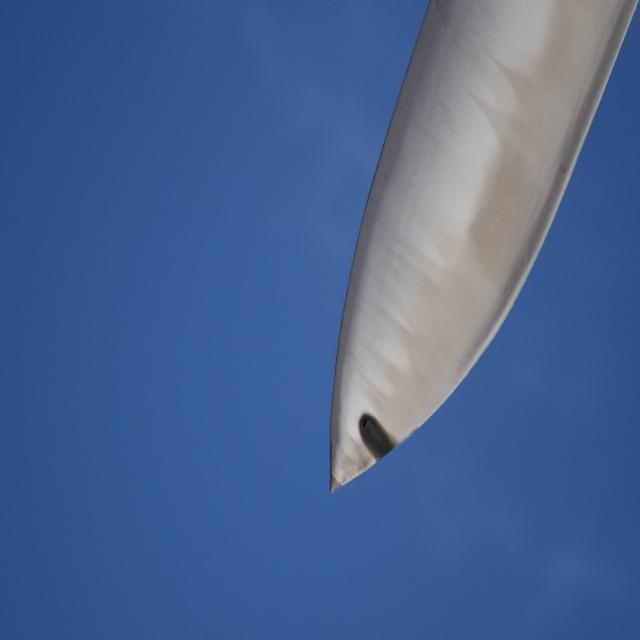Burn Mark: (352, 411, 397, 467)
